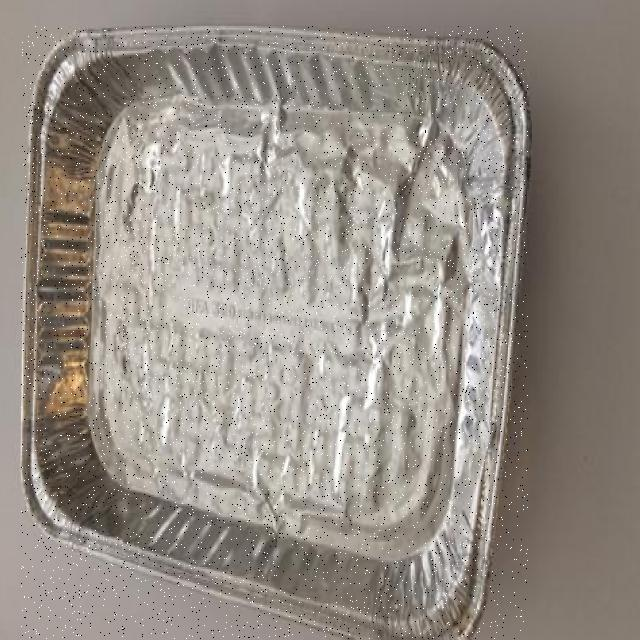metal: (22, 27, 528, 639)
